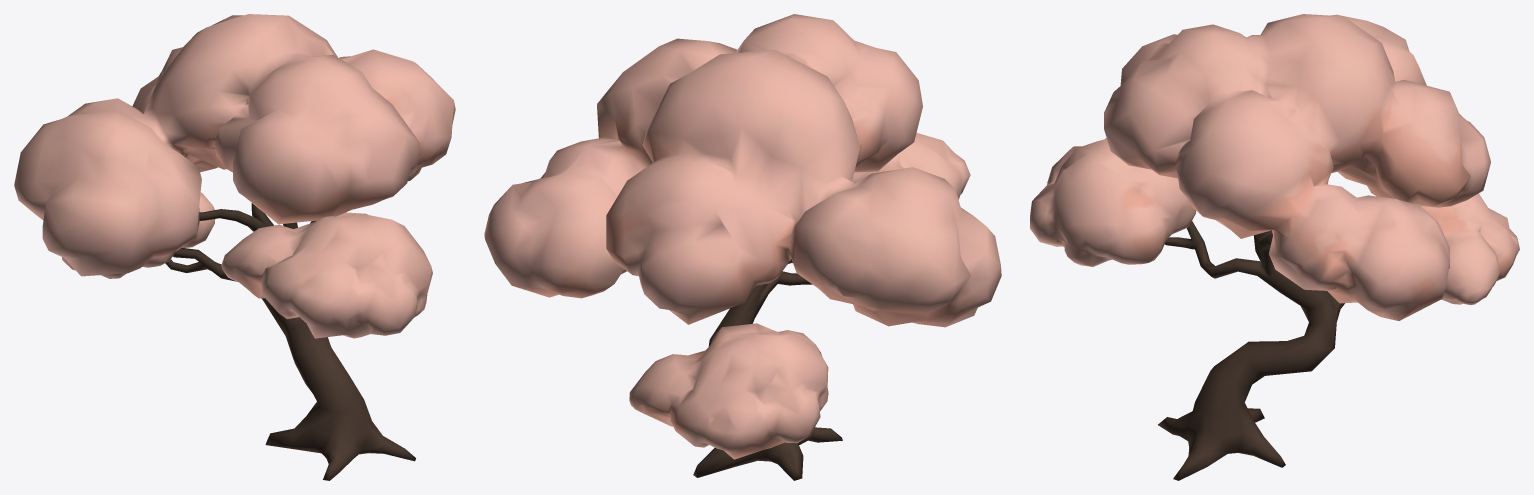
Rendered from sakura_tree.glb.
3 views of the same model, side by side, from view 1: azimuth 30°, elevation 25°; view 2: azimuth 150°, elevation 25°; view 3: azimuth 270°, elevation 25° (orthographic). The views are drawn at different scales.
Parts seen in each view (by area): view 1: tripo_node_ae77f456-ed14-466f-8ce0-b4982df5a129; view 2: tripo_node_ae77f456-ed14-466f-8ce0-b4982df5a129; view 3: tripo_node_ae77f456-ed14-466f-8ce0-b4982df5a129.
Boxes of the visible parts, x1,y1,x2,y2 form: tripo_node_ae77f456-ed14-466f-8ce0-b4982df5a129: (14, 14, 455, 480); tripo_node_ae77f456-ed14-466f-8ce0-b4982df5a129: (484, 14, 1001, 480); tripo_node_ae77f456-ed14-466f-8ce0-b4982df5a129: (1030, 14, 1519, 480).
Size of the model in its own units: 0.9863 by 0.9355 by 0.998.
1 material, 1 textured.
